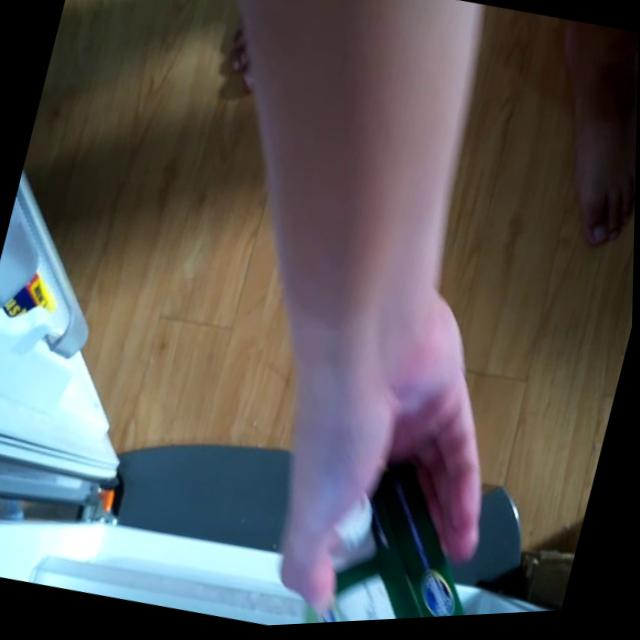milk: (301, 460, 508, 627)
